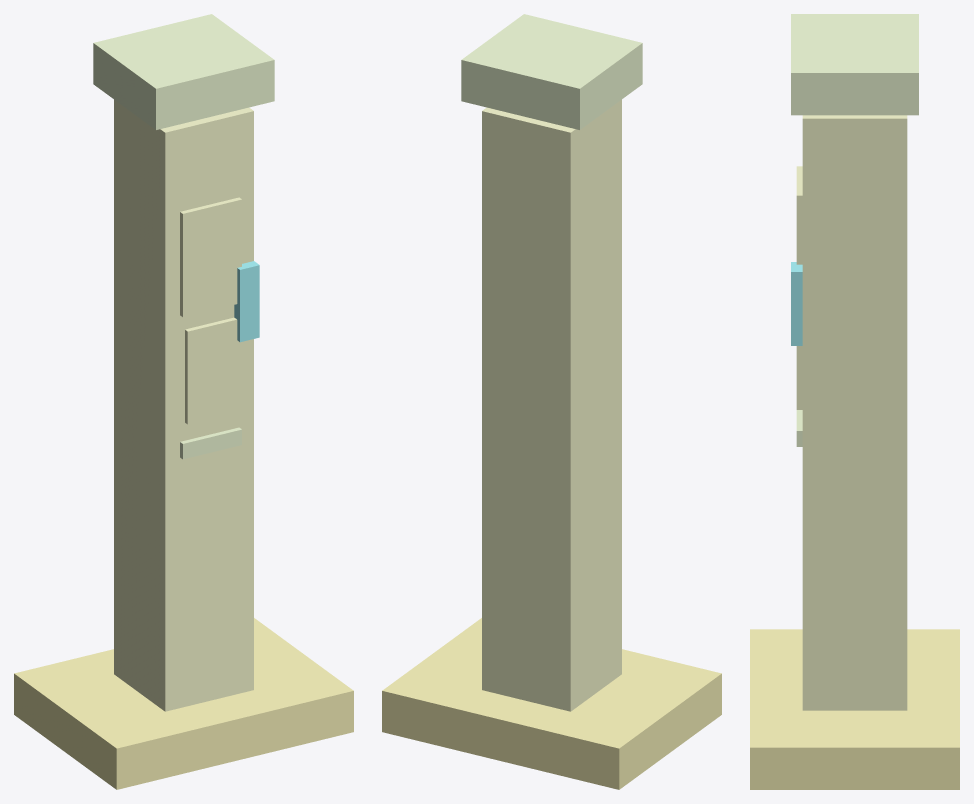
File: furniture_loading_zone_kiosk.glb
3 views of the same model, side by side, from view 1: azimuth 30°, elevation 25°; view 2: azimuth 150°, elevation 25°; view 3: azimuth 270°, elevation 25° (orthographic). The views are drawn at different scales.
Visible parts, largest first — view 1: body, base, cap, screen, keypad, card_reader, ticket_slot; view 2: body, base, cap; view 3: body, base, cap, card_reader, screen, keypad.
Boxes of the visible parts, x1,y1,x2,y2 form: body: (114, 99, 253, 711); base: (14, 618, 353, 789); cap: (93, 14, 274, 129); screen: (180, 197, 241, 317); keypad: (185, 317, 237, 424); card_reader: (234, 261, 259, 342); ticket_slot: (180, 427, 241, 459); body: (482, 99, 621, 711); base: (382, 618, 721, 789); cap: (461, 14, 642, 129); body: (802, 115, 907, 710); base: (750, 629, 959, 789); cap: (791, 14, 918, 115); card_reader: (791, 262, 802, 345); screen: (796, 166, 802, 264); keypad: (796, 346, 802, 409).
Bounding box in the file's own units: 0.48 × 1.3 × 0.36.
